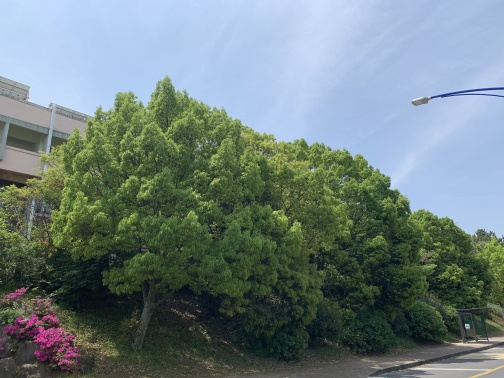College Of Education: (1, 75, 91, 230)
